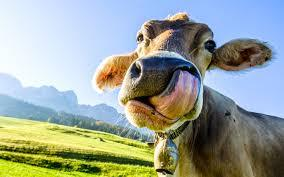cow: (93, 12, 284, 177)
